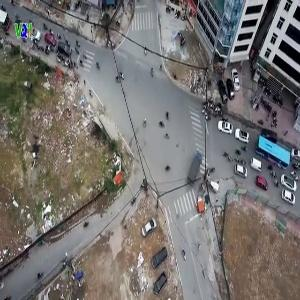drone: (15, 129, 54, 168)
